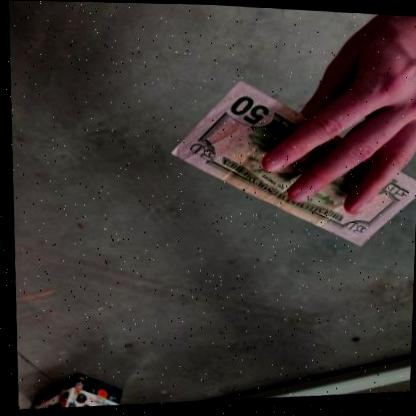fifty-back: (163, 81, 416, 252)
